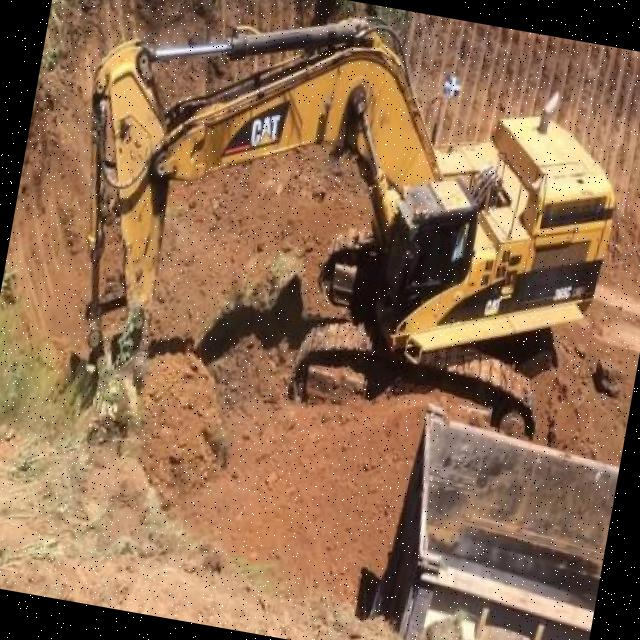Dump Truck: (356, 400, 623, 640)
Excavator: (36, 0, 640, 495)
